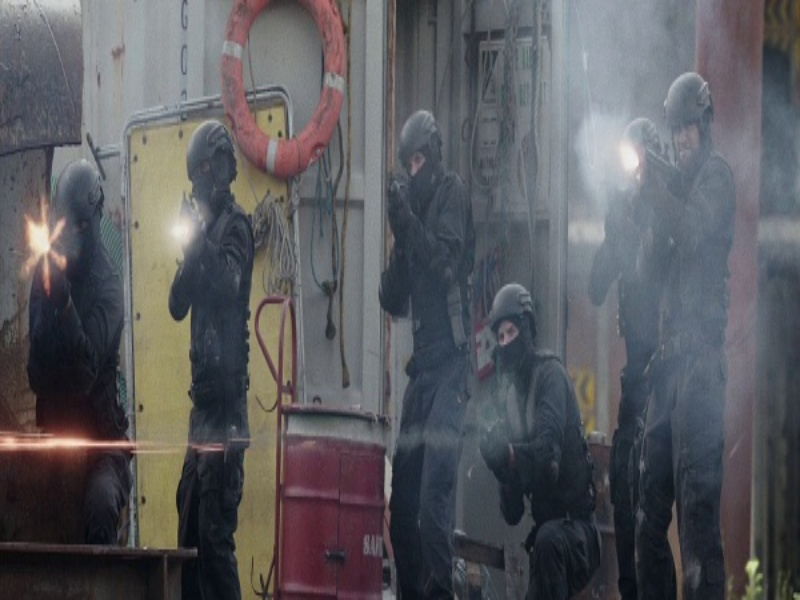person: (360, 108, 458, 596), (647, 67, 728, 596), (163, 118, 247, 597), (478, 286, 607, 597), (25, 164, 125, 551), (599, 113, 655, 594)
weapon: (176, 196, 211, 263), (474, 419, 513, 475), (382, 175, 415, 219)
